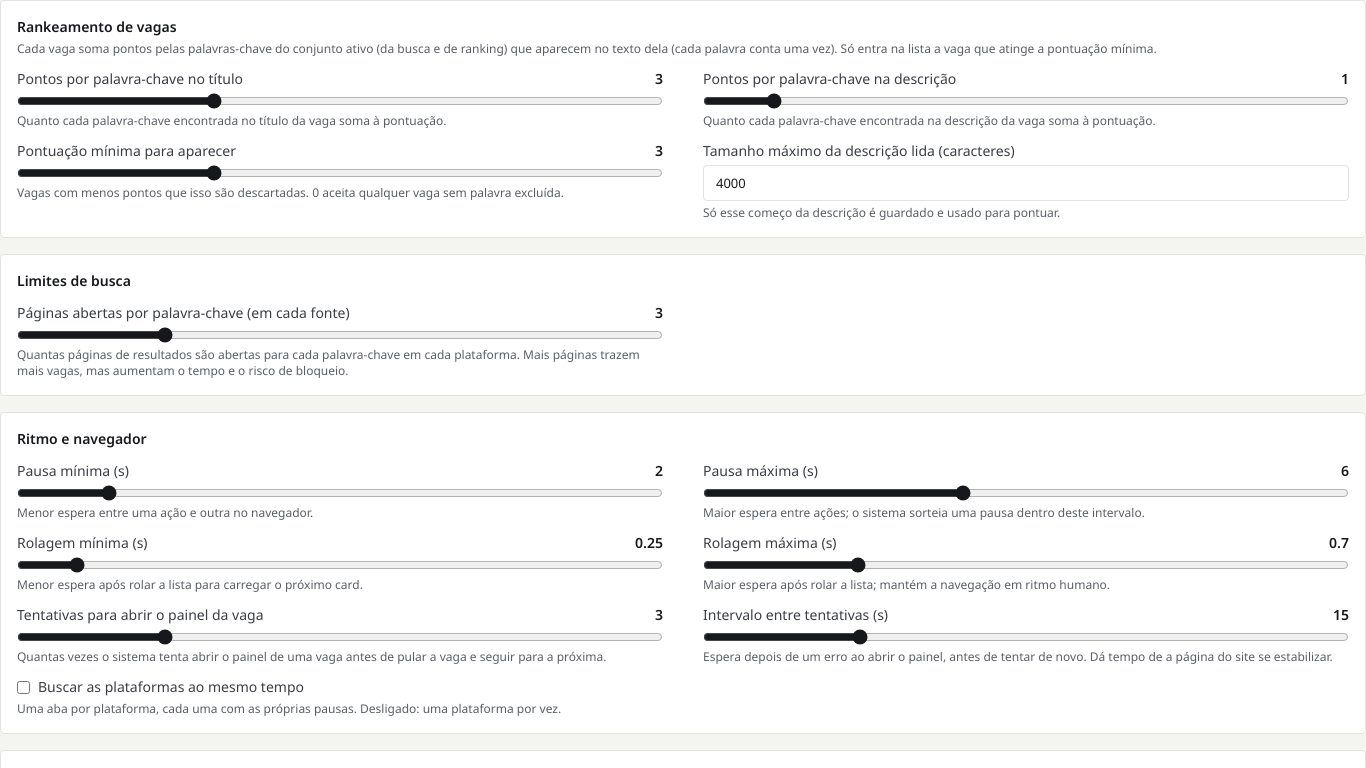
ConfigPage › envia a configuração completa, com números, e confirma
The image size is (1366, 768).
Set the slider labelled "Pontuação mínima para aparecer" to "5". click: (340, 173)
box: [17,165,663,181]
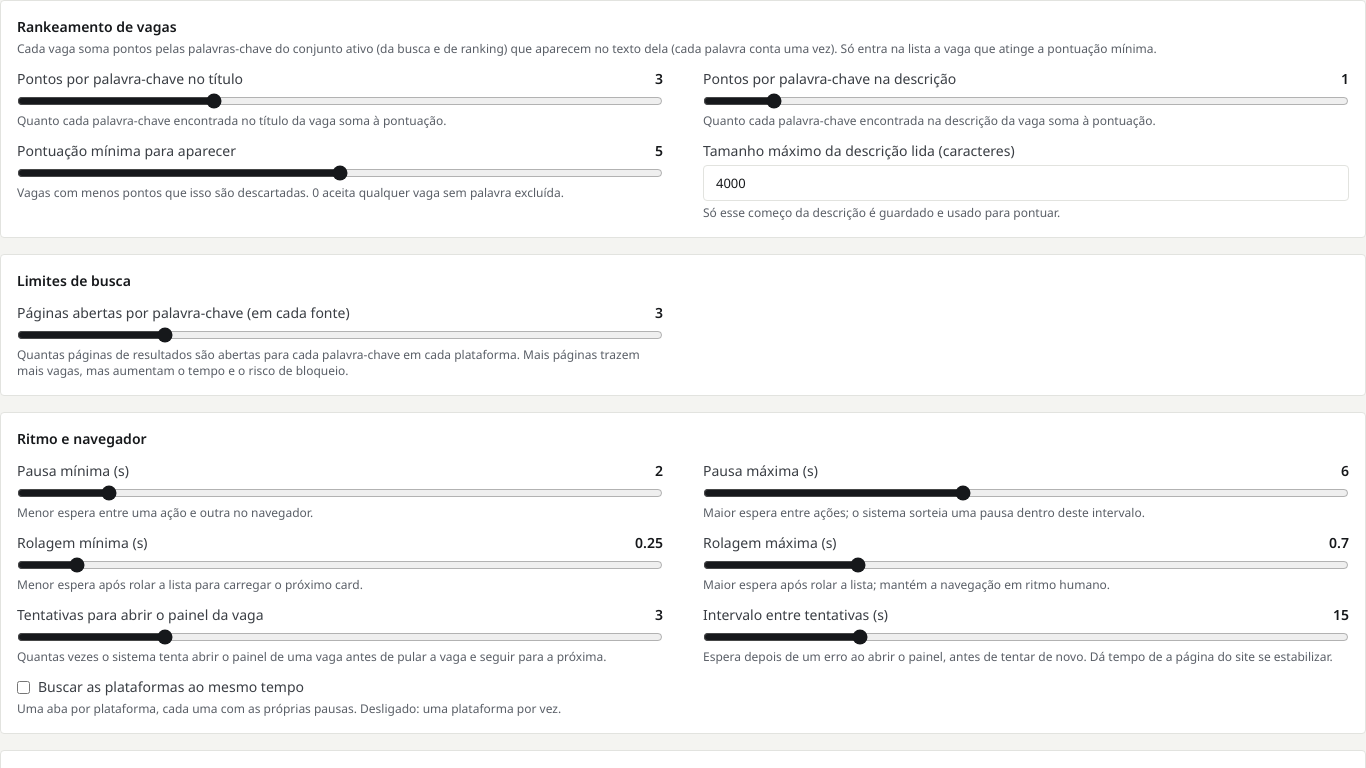
Check: the text with test id "valor-filtro.min_score" reads "5", box [655,141,663,160]
Press ArrowRight in the slider labelled "Pontuação mínima para aparecer", box [17,165,663,181]
(page scrolled)
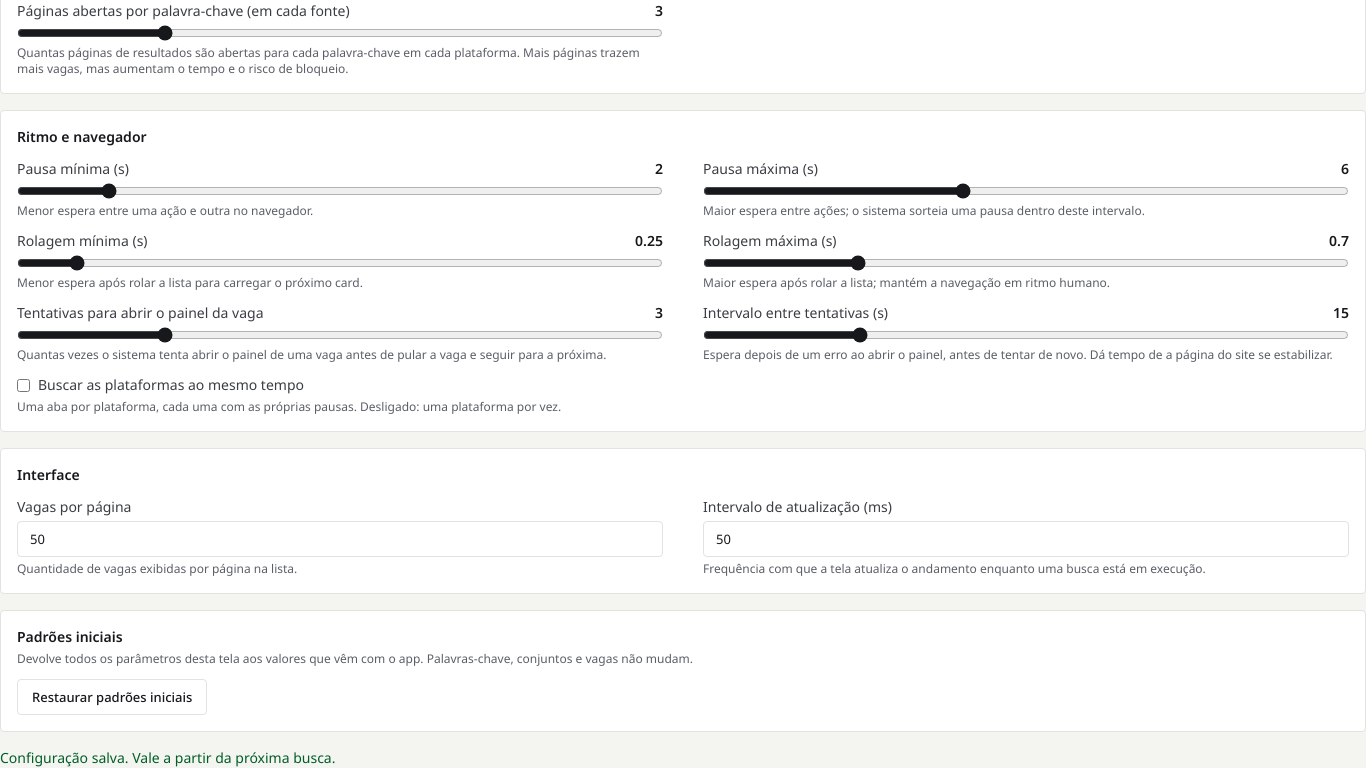
Check: the text "Configuração salva. Vale a partir da próxima busca." is shown, box [0,748,336,767]
